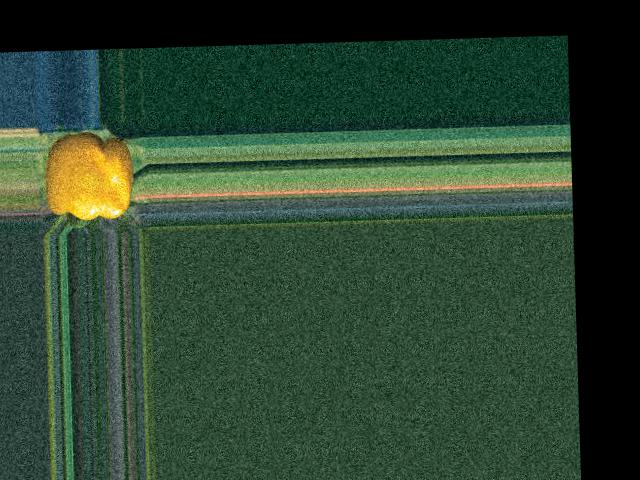bell_pepper: (39, 129, 141, 229)
